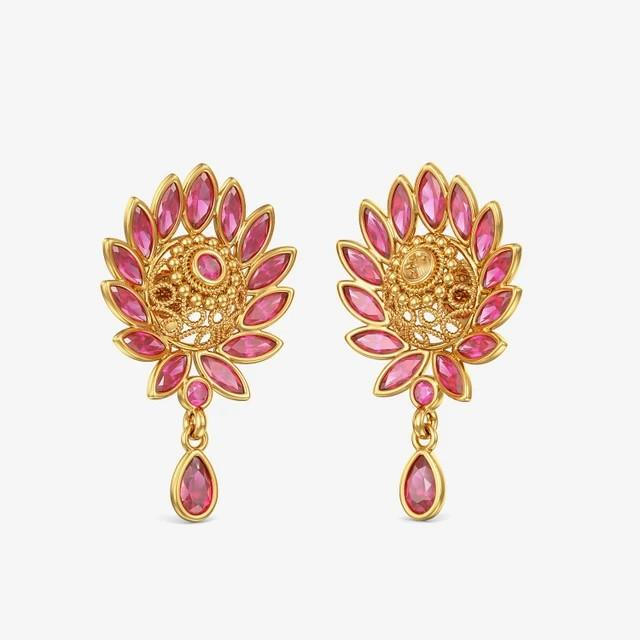missing gem: (403, 249, 430, 280)
